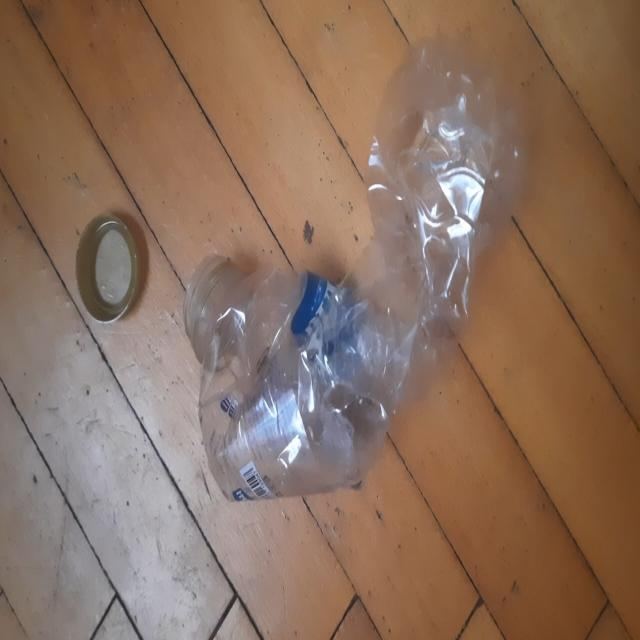Plastic: (196, 35, 518, 502)
